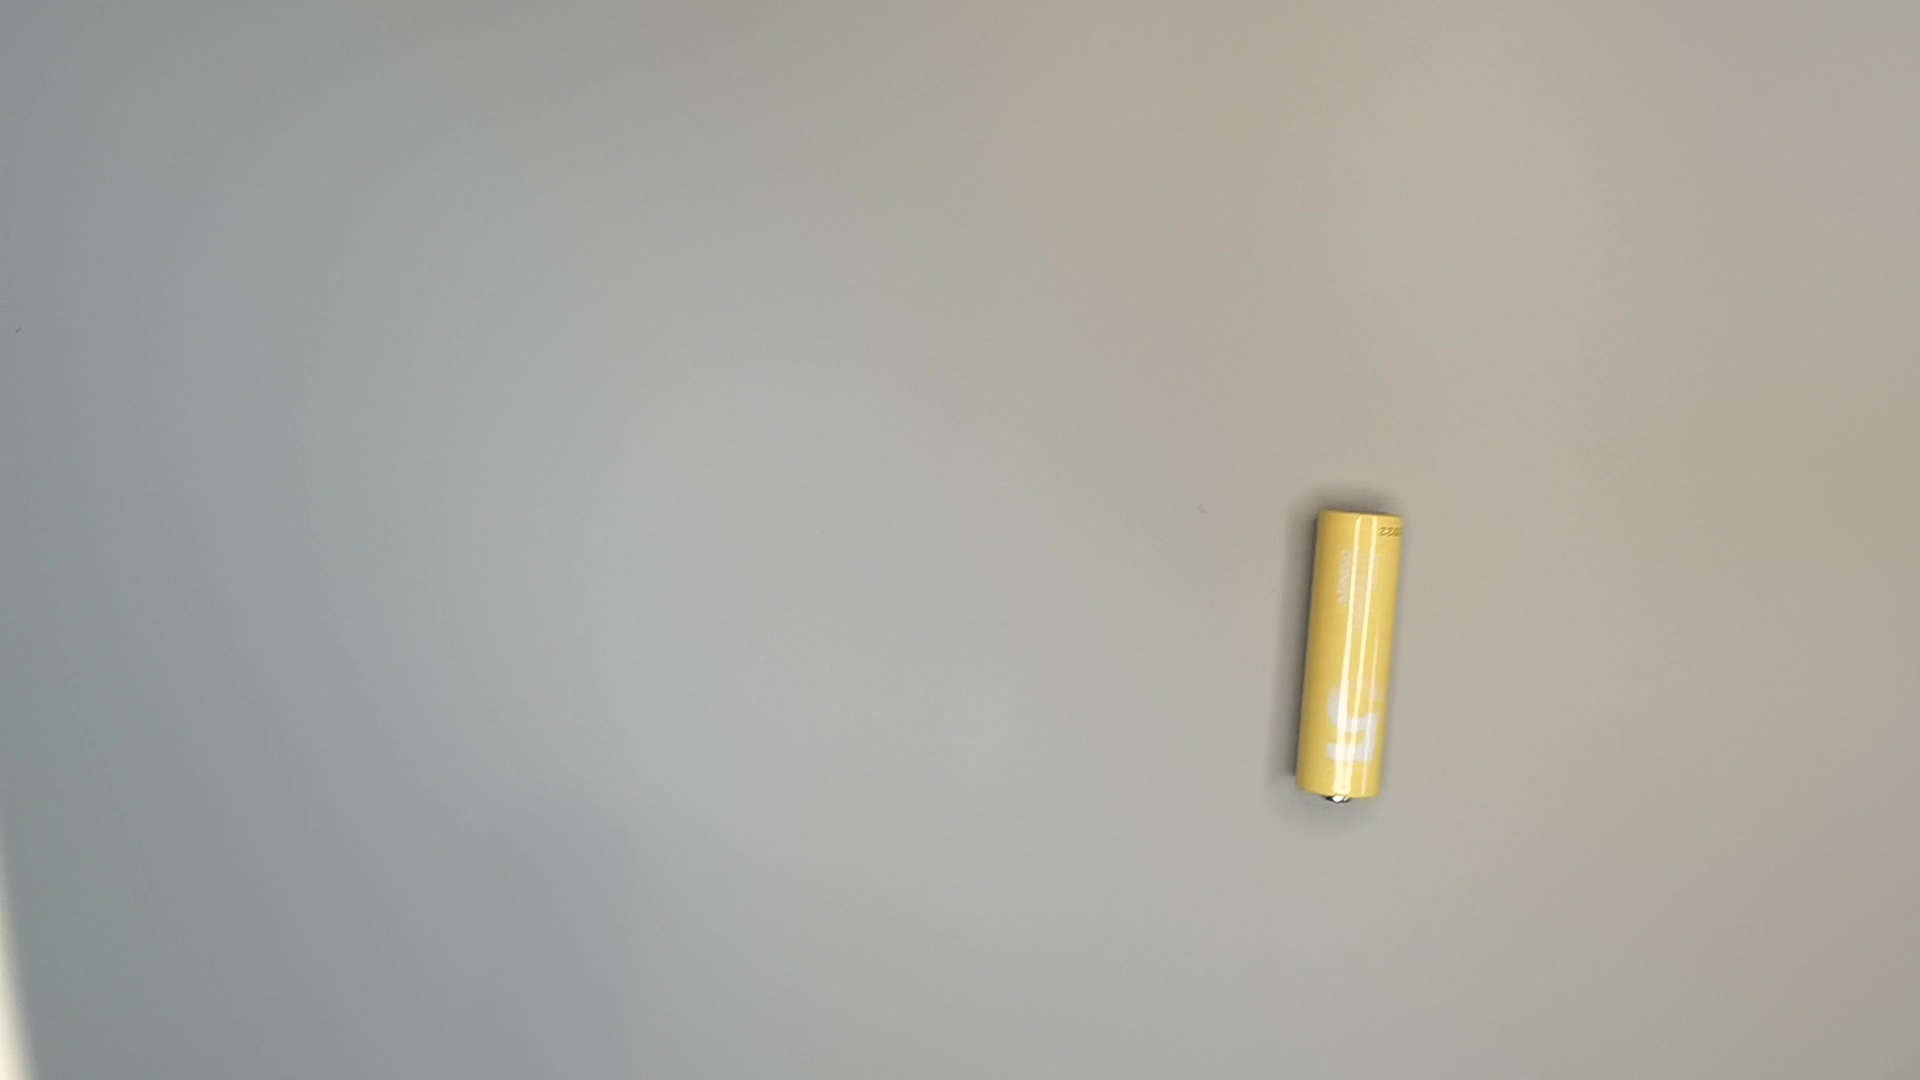battery: (1284, 500, 1408, 811)
